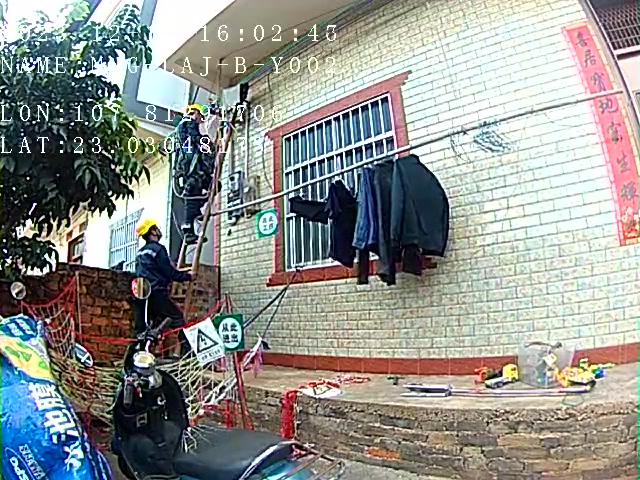halt: (140, 222, 165, 246), (190, 107, 210, 125)
